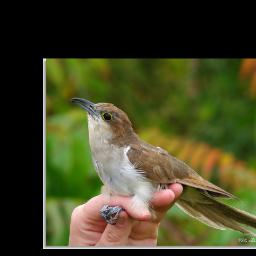Cuckoo: (70, 96, 256, 236)
